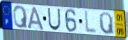6: (64, 8, 78, 34)
A: (27, 6, 45, 31)
L: (85, 10, 98, 35)
Q: (98, 11, 115, 36), (12, 5, 29, 30)
U: (47, 7, 62, 32)
